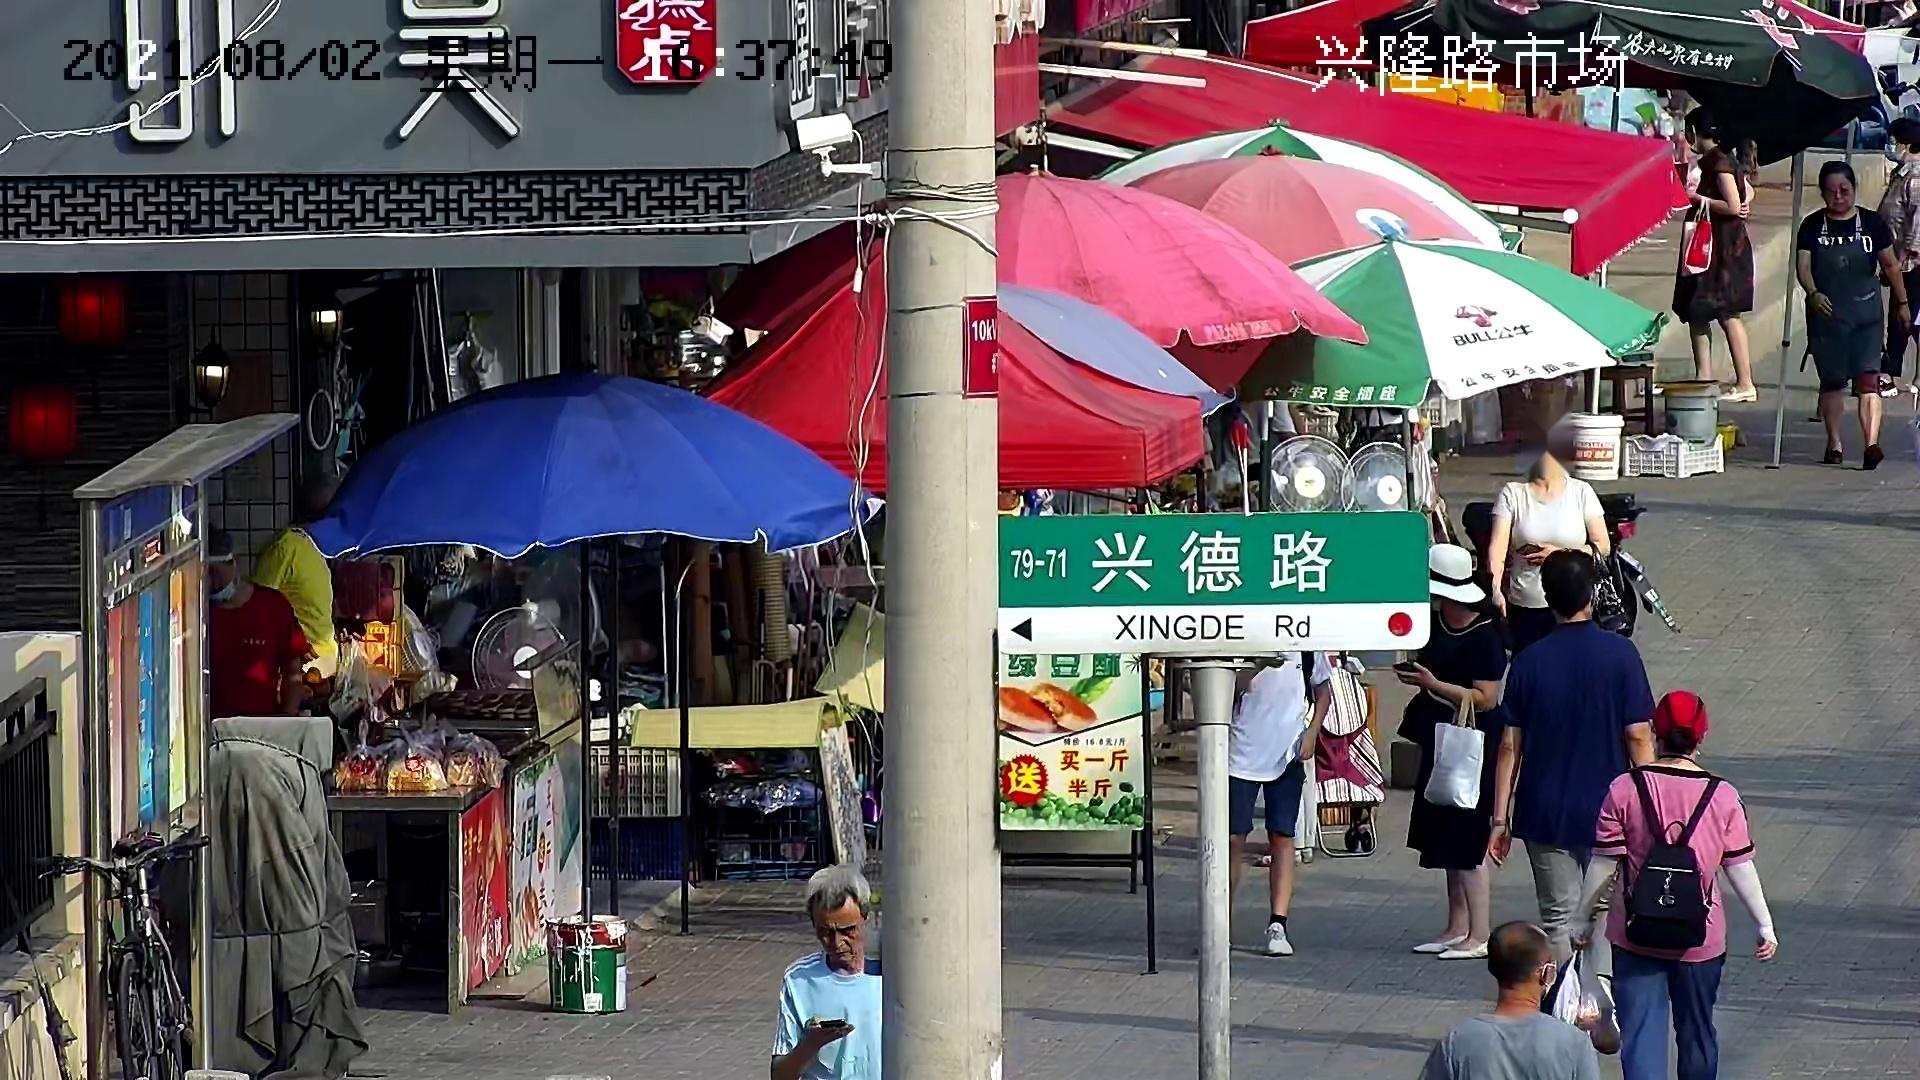chair: (1582, 364, 1658, 435)
umbrella: (669, 235, 1207, 502), (287, 357, 870, 574), (1364, 4, 1880, 171), (1238, 236, 1672, 410), (989, 167, 1371, 345), (1091, 123, 1524, 248), (1116, 152, 1493, 266), (989, 284, 1229, 411)
